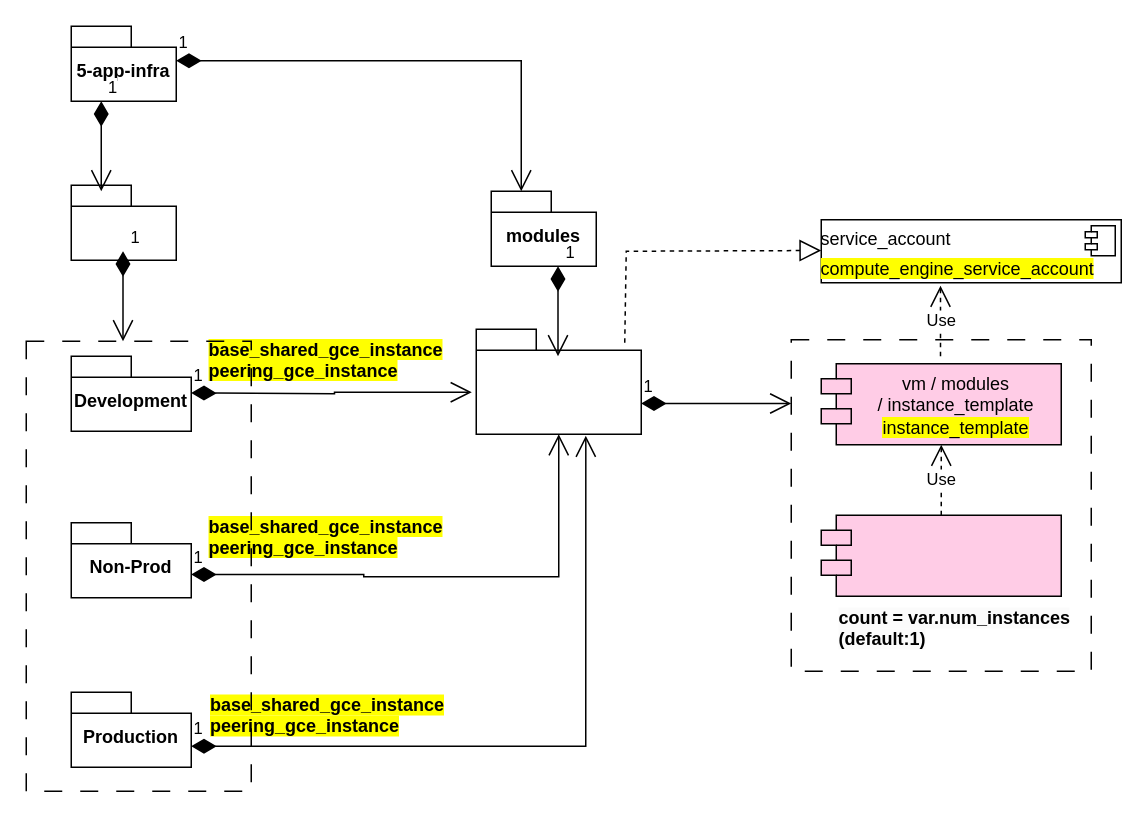
This 1148x818 diagram has some shape labels left out. The shapes that lost their labels are listed below. From the top down, each one's centre as x and y in pixels, then its label:
the point at 123,222: BU-1
the point at 558,381: env_base
the point at 940,555: vm / modules / compute_instance compute_instance
